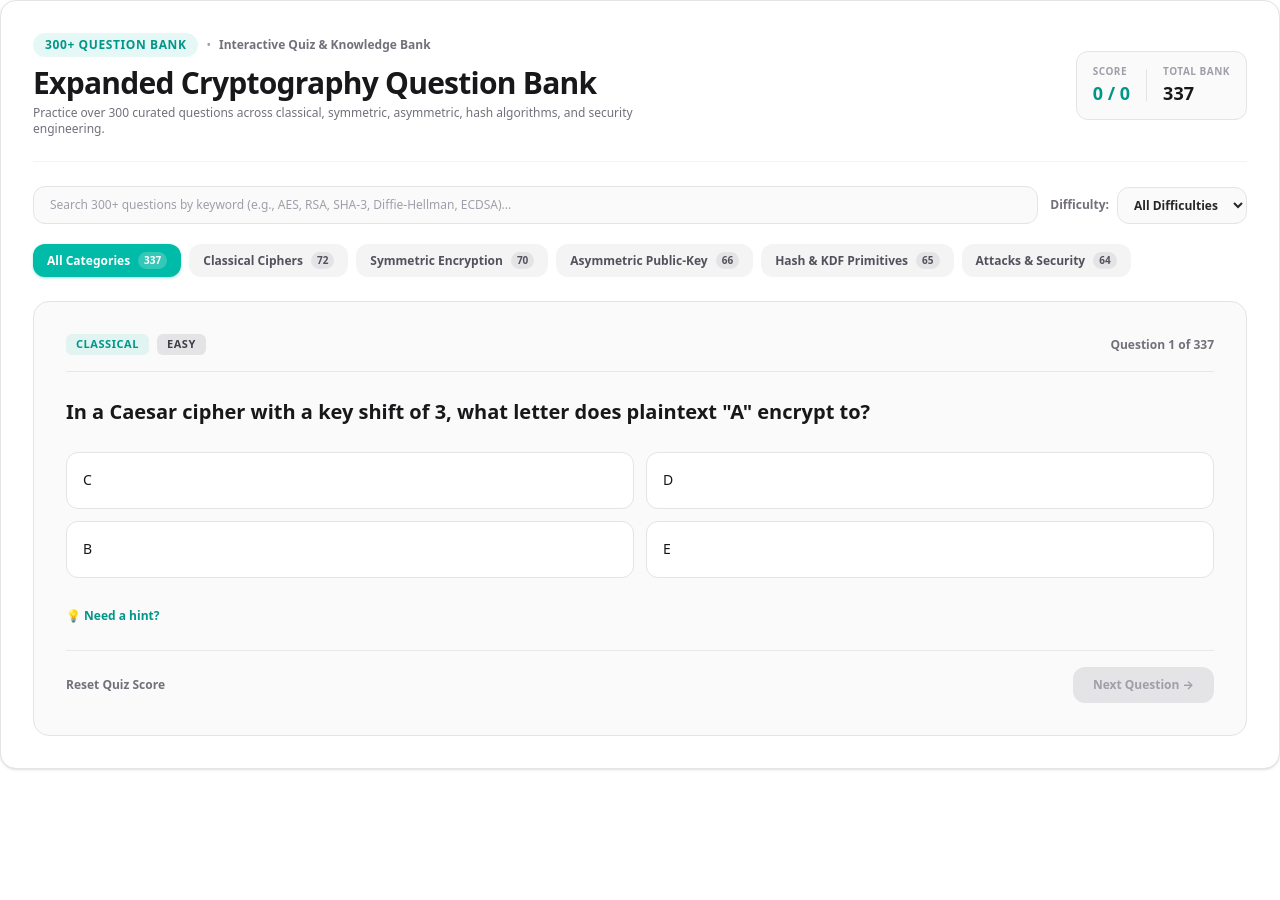
Test: Challenge Question Bank Module (Issue #480) › handles option selection and reveals explanation
Expected: the heading "In a Caesar cipher with a key shift of 3, what letter does plaintext \"A\" encrypt to?" is shown, [66,398,870,425]
Click the radio button labelled "D" at [668, 480], box [646,452,1214,509]
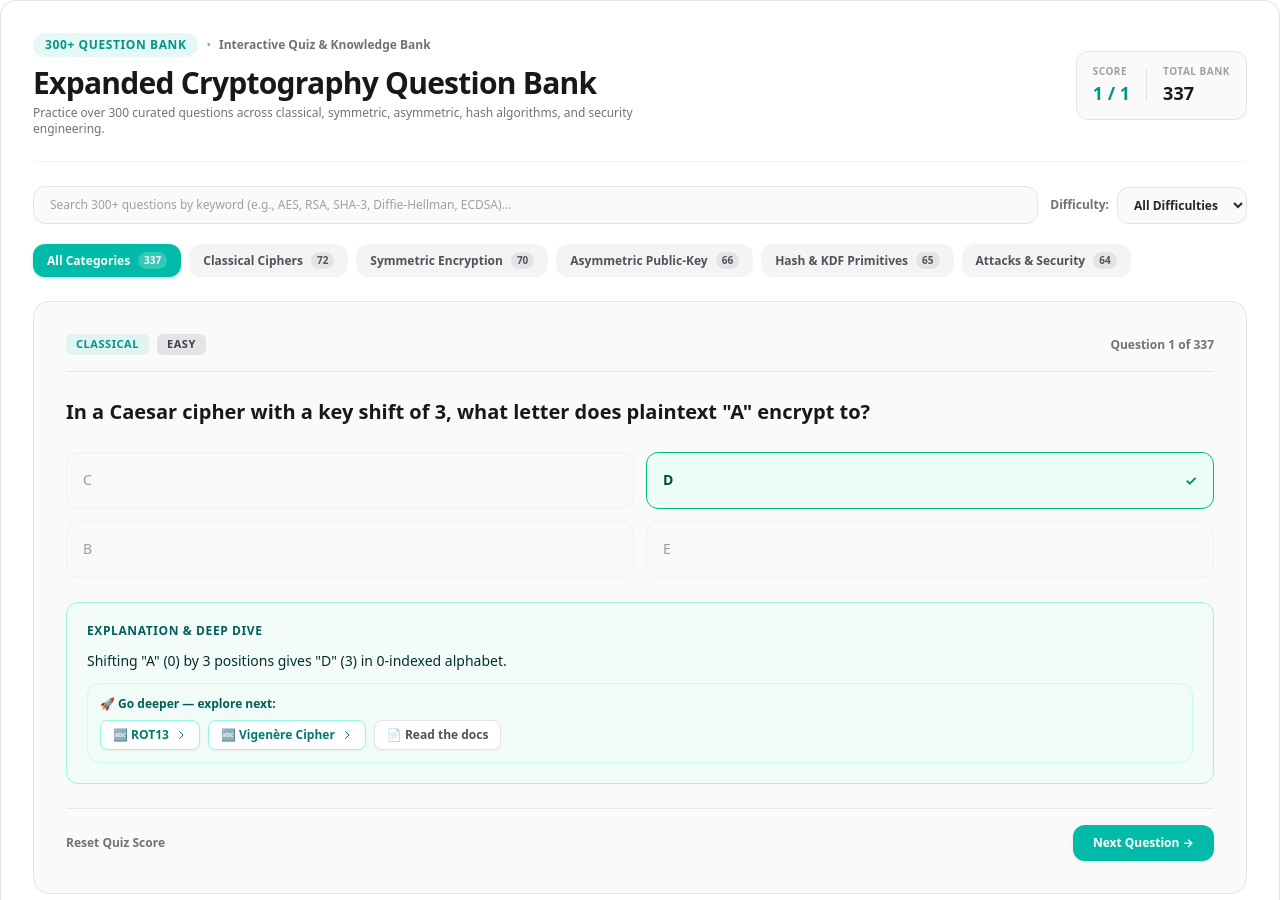
Result: the heading "Explanation & Deep Dive" is shown at [87,622,262,639]
Result: the text "Shifting \"A\" (0) by 3 positions gives \"D\" (3) in 0-indexed alphabet." is shown at [87,651,507,670]
